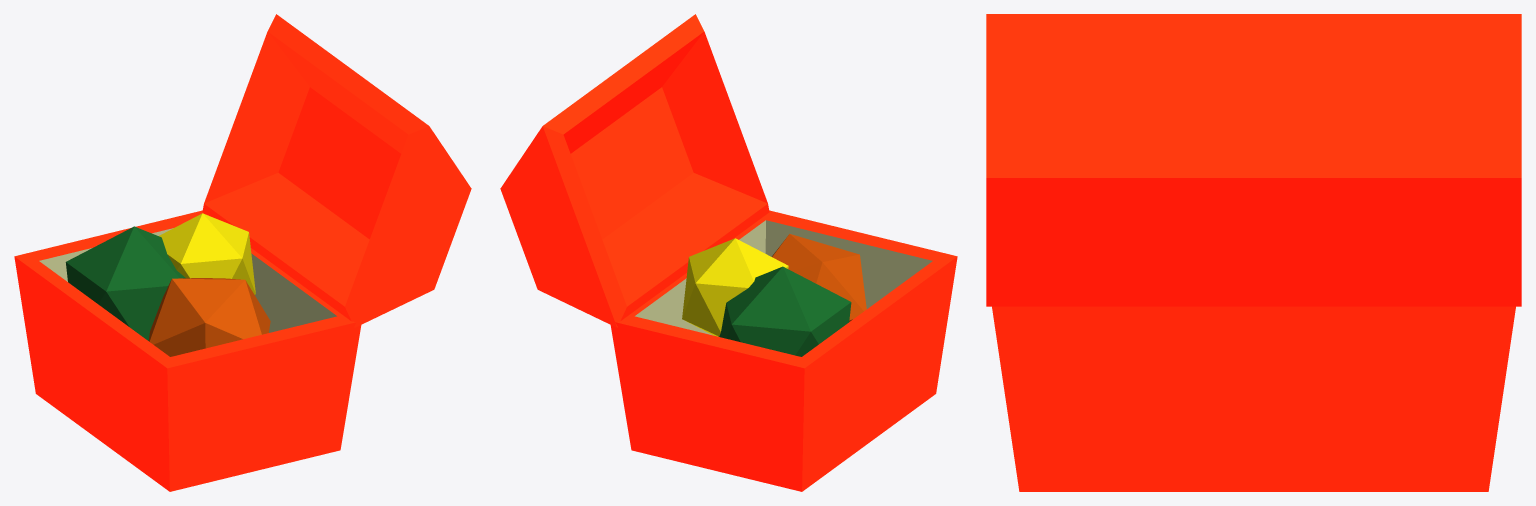
File: treasure-box.fbx
3 views of the same model, side by side, from view 1: azimuth 30°, elevation 25°; view 2: azimuth 150°, elevation 25°; view 3: azimuth 270°, elevation 25° (orthographic). The views are drawn at different scales.
Parts seen in each view (by area): view 1: Cube.102, Cylinder.023, Icosphere.002, Icosphere, Icosphere.001; view 2: Cube.102, Cylinder.023, Icosphere.002, Icosphere.001, Icosphere; view 3: Cylinder.023, Cube.102.
Boxes of the visible parts, x1,y1,x2,y2 form: Cube.102: (14,210,361,491); Cylinder.023: (202,14,471,327); Icosphere.002: (65,226,185,340); Icosphere: (148,278,270,356); Icosphere.001: (159,213,255,294); Cube.102: (610,210,957,491); Cylinder.023: (500,14,769,327); Icosphere.002: (718,266,851,356); Icosphere.001: (682,238,788,336); Icosphere: (772,234,866,321); Cylinder.023: (986,14,1521,306); Cube.102: (992,306,1515,491).
Bounding box in the file's own units: 75.23 × 73.69 × 65.53.
